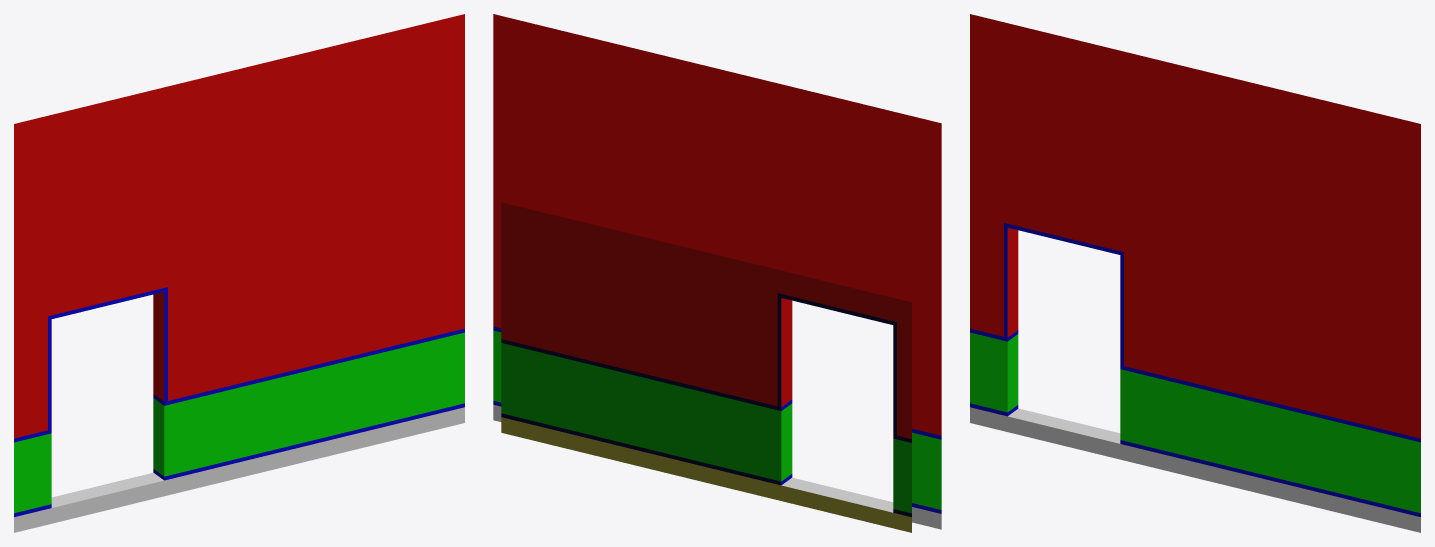
File: SM_Room6xXDoorB.fbx
3 renders of one model, left to right at view 1: azimuth 30°, elevation 25°; view 2: azimuth 150°, elevation 25°; view 3: azimuth 330°, elevation 25°, orthographic.
Visible parts, largest first — view 1: SM_Room6xXDoorB; view 2: SM_Room6xXDoorB; view 3: SM_Room6xXDoorB.
Part boxes in pixels (box(x1,y1,x2,y2)): SM_Room6xXDoorB: box(14, 14, 464, 532); SM_Room6xXDoorB: box(493, 14, 941, 532); SM_Room6xXDoorB: box(970, 14, 1420, 532).
Bounding box in the file's own units: 600 × 520 × 25.
